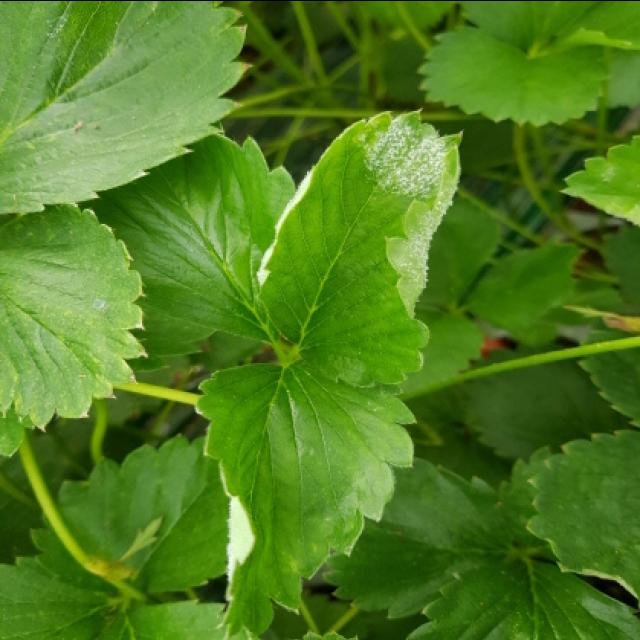Powdery Mildew Leaf: (194, 354, 418, 640), (256, 107, 464, 388)
